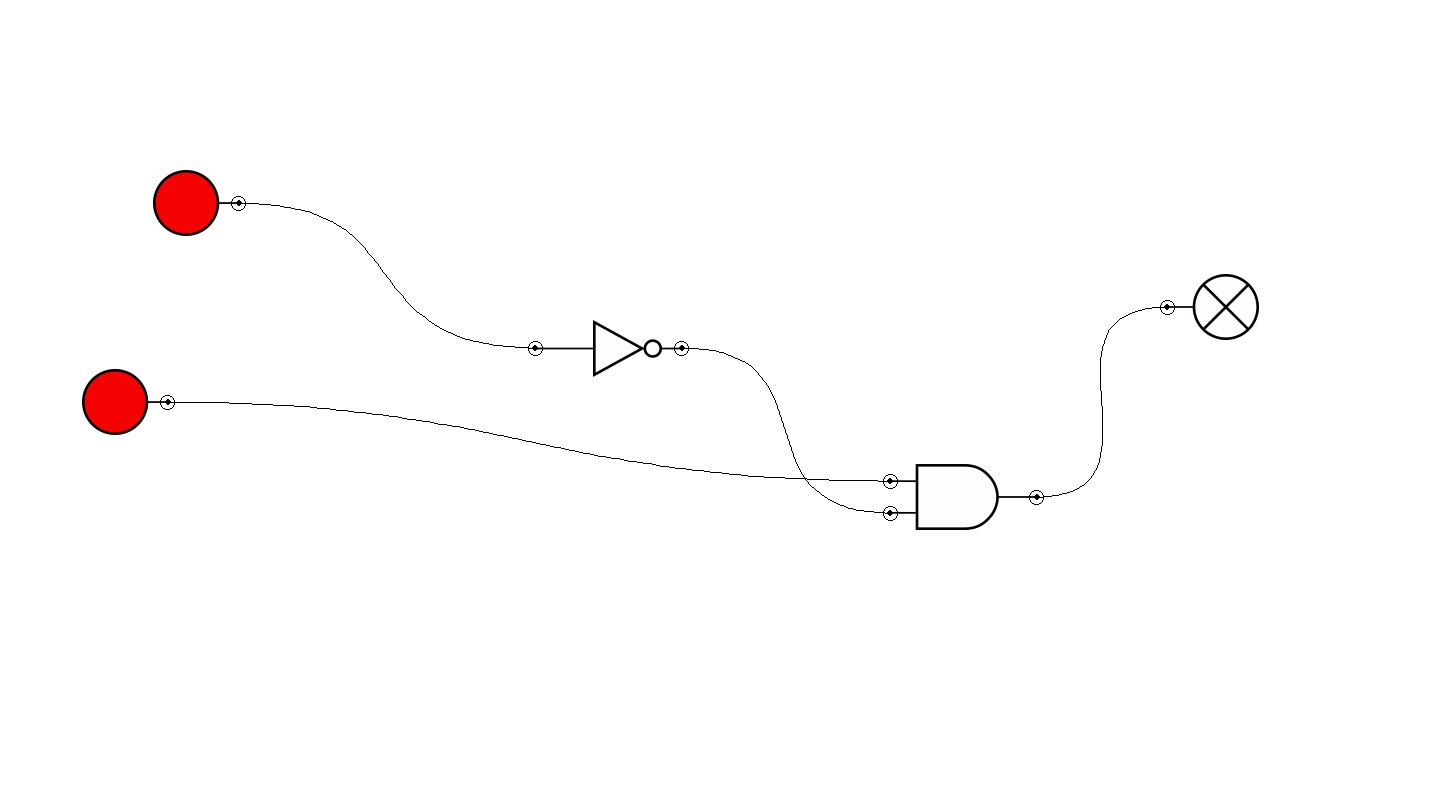and: (883, 464, 1044, 530)
bulb: (1160, 274, 1259, 340)
not: (528, 320, 689, 377)
switch_False: (82, 369, 175, 435), (153, 170, 246, 236)
